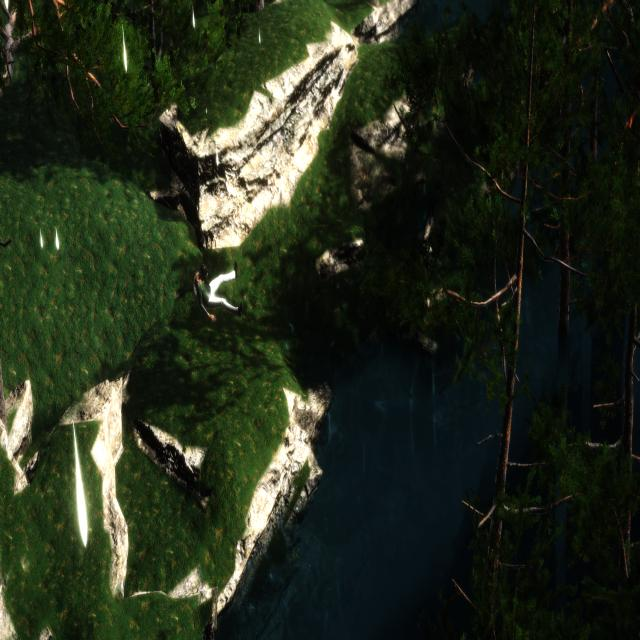Human: (196, 265, 244, 328)
